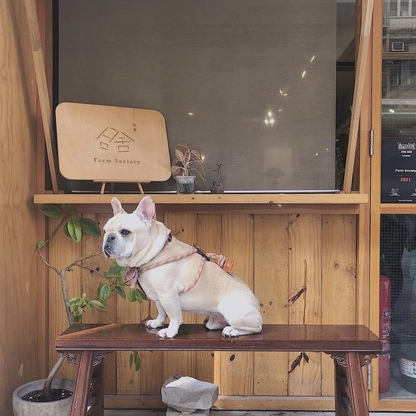bulldog: (97, 194, 265, 344)
